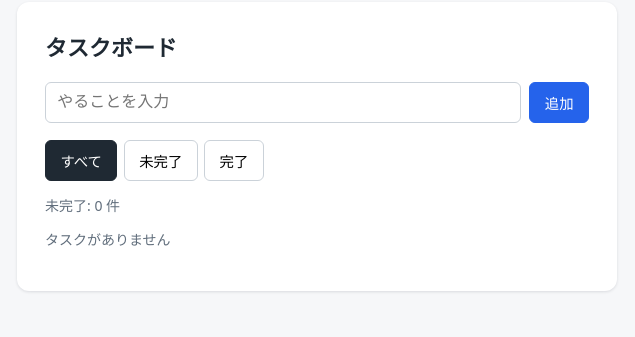
Test: App › チェックを入れると未完了件数が減る
The image size is (635, 337).
Type "掃除する" into the field named "タスク名" at (283, 102), box [45,82,521,123]
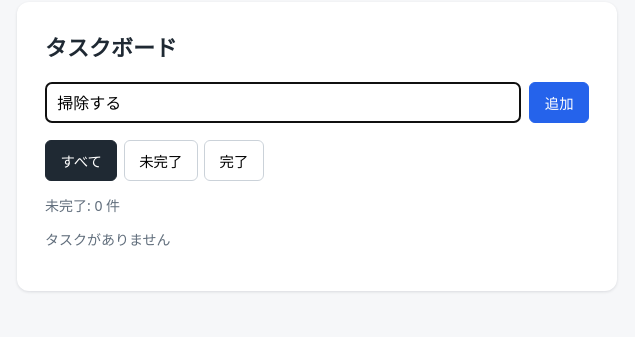
Click the button "追加" at (559, 102), box [529,82,589,123]
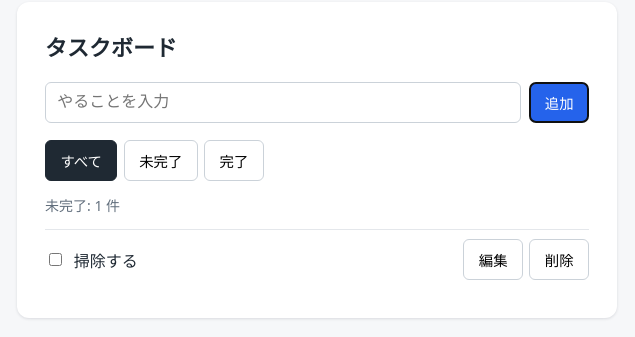
Click the checkbox at (56, 260), box [49,253,62,266]
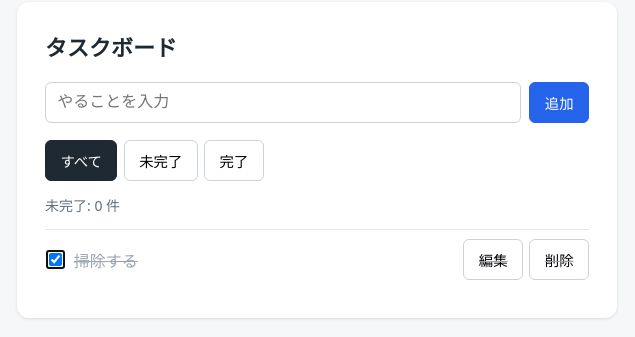
Check: the text "未完了: 0 件" is shown, box [45,196,120,215]
